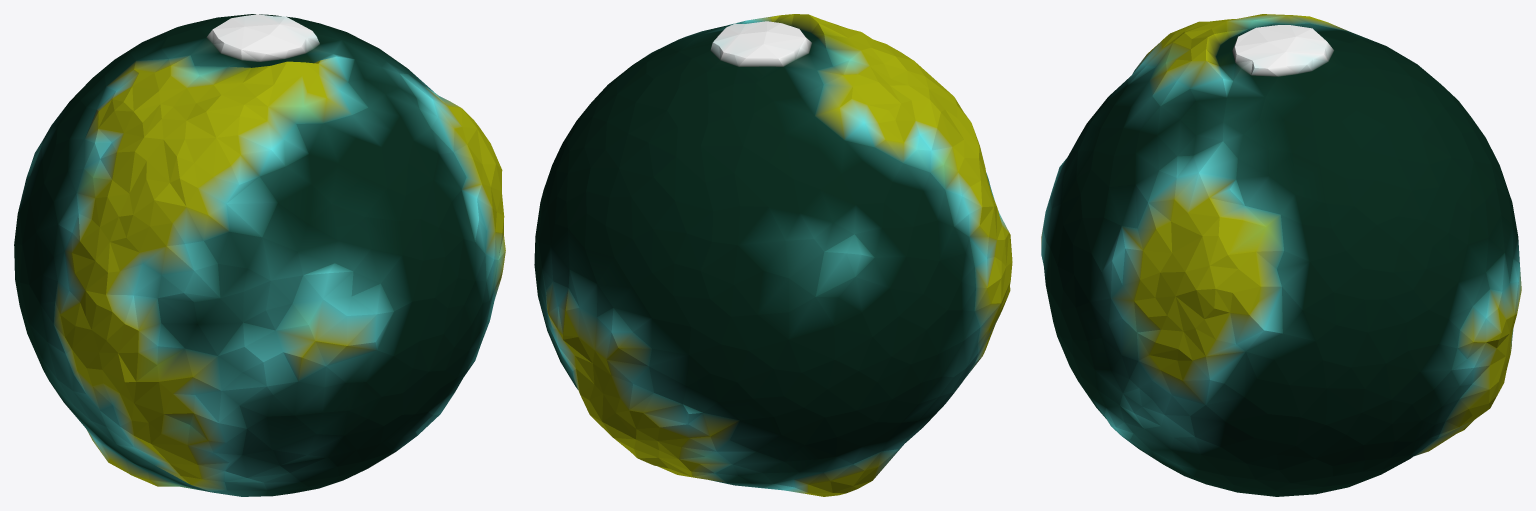
The model's file is planet_4.fbx.
3 views of the same model, side by side, from view 1: azimuth 30°, elevation 25°; view 2: azimuth 150°, elevation 25°; view 3: azimuth 270°, elevation 25° (orthographic). The views are drawn at different scales.
Visible parts, largest first — view 1: file1; view 2: file1; view 3: file1.
Boxes of the visible parts, x1,y1,x2,y2 form: file1: [14, 14, 505, 496]; file1: [534, 14, 1012, 496]; file1: [1041, 14, 1521, 496].
Size of the model in its own units: 2.04 by 2.06 by 2.03.
